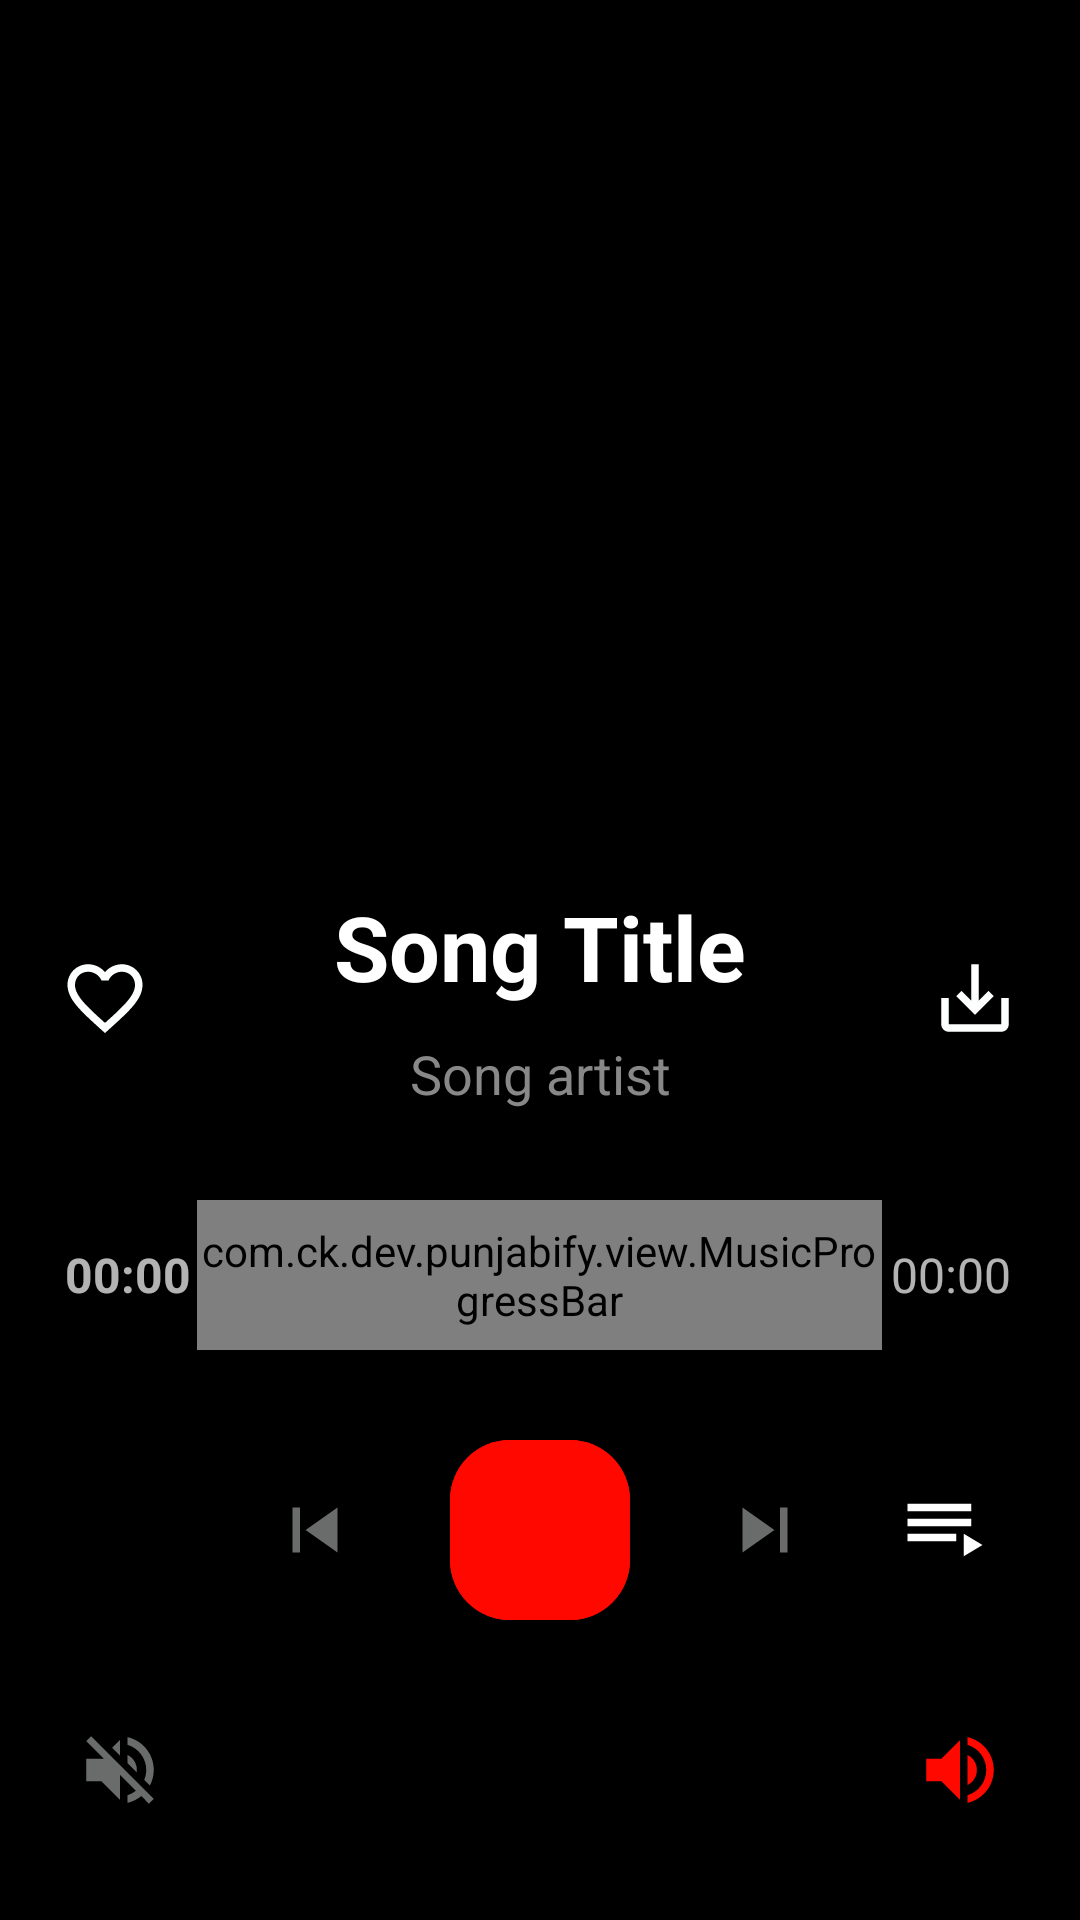

Screen size 1080w x 1920h. Icon name, then its center in pixels as point (x, y):
download: point (975, 998)
mute: point (120, 1770)
next: point (765, 1530)
previous: point (315, 1530)
queue: point (944, 1529)
unlike: point (105, 998)
volume: point (960, 1770)
